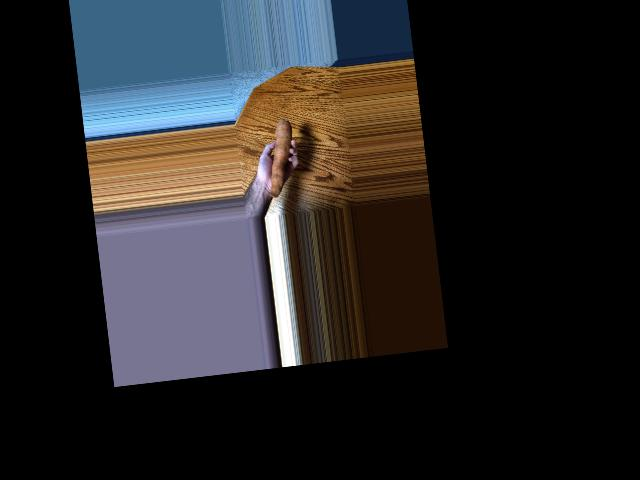sweet_potato: (263, 116, 300, 194)
